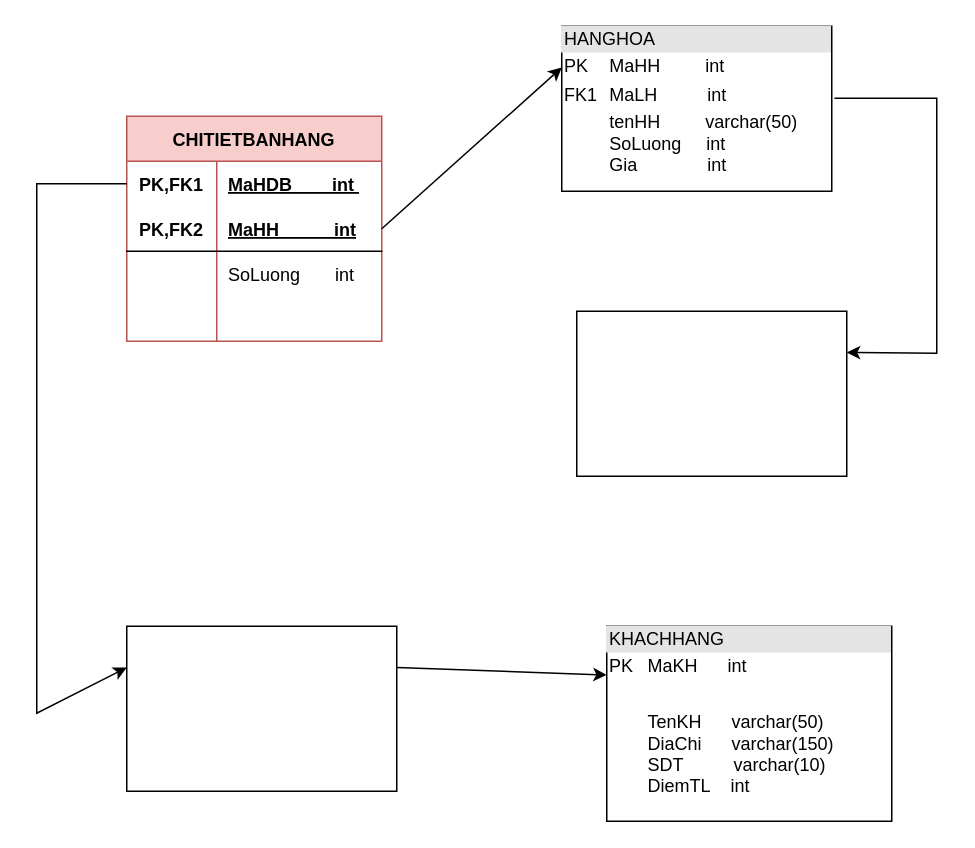
The diagram is 975 pixels wide and 848 high, and some of its shapes have lost their labels. Here are the shapes that lost their labels. From the top down, the box of each, then its label:
(575, 310, 847, 476): LOAIHANG PK MaLH int TenLH varchar(50) MoTa varchar(150)
(125, 625, 397, 791): HOADONBAN PK MaHDB int FK1 MaKH int NgayHDB date SUMB int Khac int
